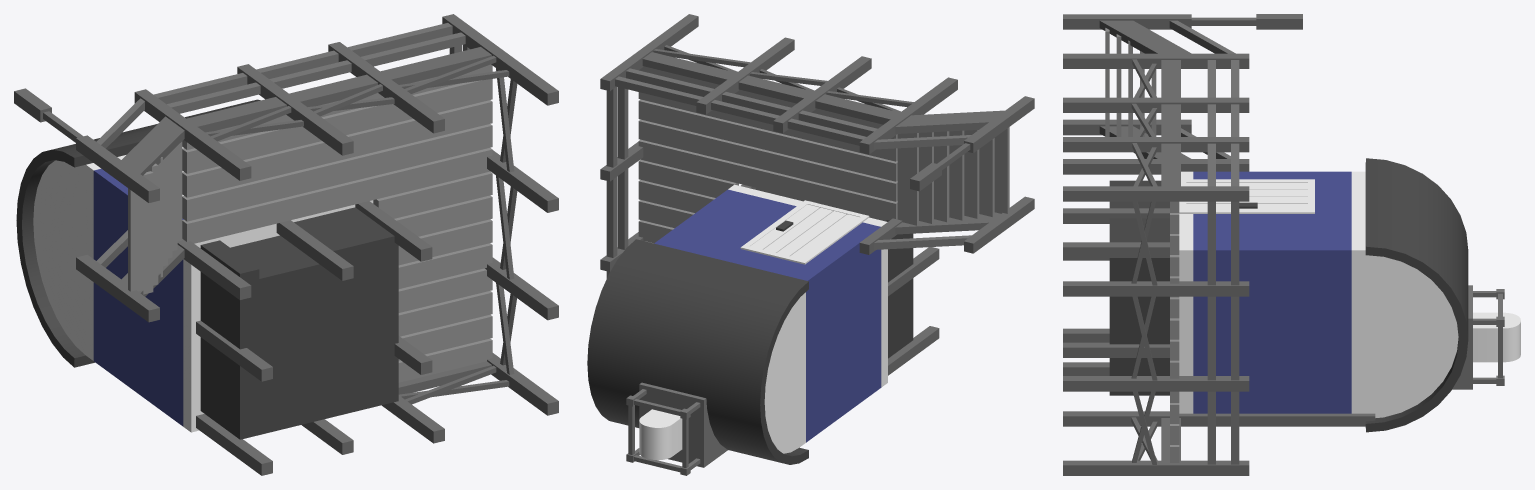
Rendered from Mini Lodge.fbx.
The picture shows the model from 3 angles, left to right: view 1: azimuth 30°, elevation 25°; view 2: azimuth 150°, elevation 25°; view 3: azimuth 270°, elevation 25°; orthographic projection. The views are drawn at different scales.
Parts seen in each view (by area): view 1: Mini Lodge; view 2: Mini Lodge, Mini Lodge Door; view 3: Mini Lodge, Mini Lodge Door.
Part boxes in pixels (x1=…): Mini Lodge: x1=14, y1=14, x2=558, y2=475; Mini Lodge: x1=587, y1=14, x2=1034, y2=475; Mini Lodge Door: x1=750, y1=204, x2=859, y2=259; Mini Lodge: x1=1063, y1=14, x2=1520, y2=475; Mini Lodge Door: x1=1186, y1=183, x2=1307, y2=209.
Size of the model in its own units: 1800 by 1367 by 1967.
